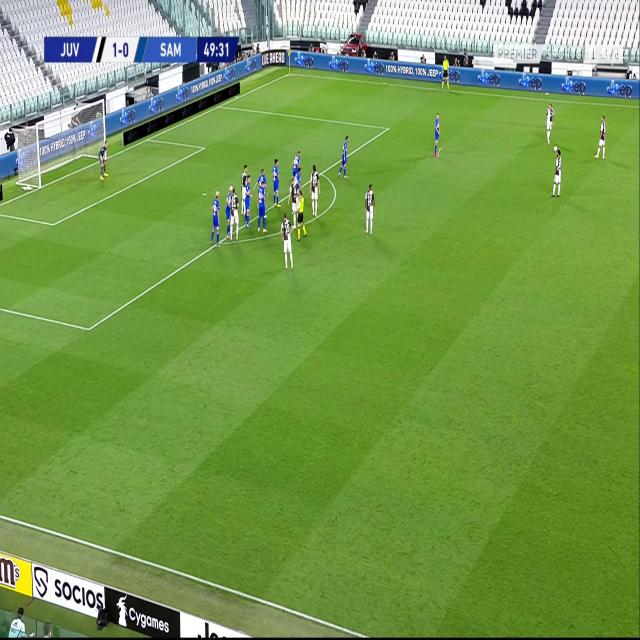ball: (553, 144, 558, 153)
player: (210, 188, 224, 246), (279, 212, 293, 269), (364, 182, 376, 234), (308, 164, 320, 215), (338, 134, 351, 179), (595, 113, 607, 159), (270, 156, 280, 208), (296, 190, 306, 240), (231, 186, 240, 241), (552, 149, 562, 197), (258, 180, 267, 233), (98, 138, 109, 181), (544, 101, 554, 146), (290, 176, 298, 230), (240, 163, 248, 216), (244, 174, 252, 226), (433, 110, 442, 155), (225, 185, 232, 239), (440, 54, 450, 91), (295, 167, 304, 190), (292, 150, 300, 173), (257, 167, 267, 183)
